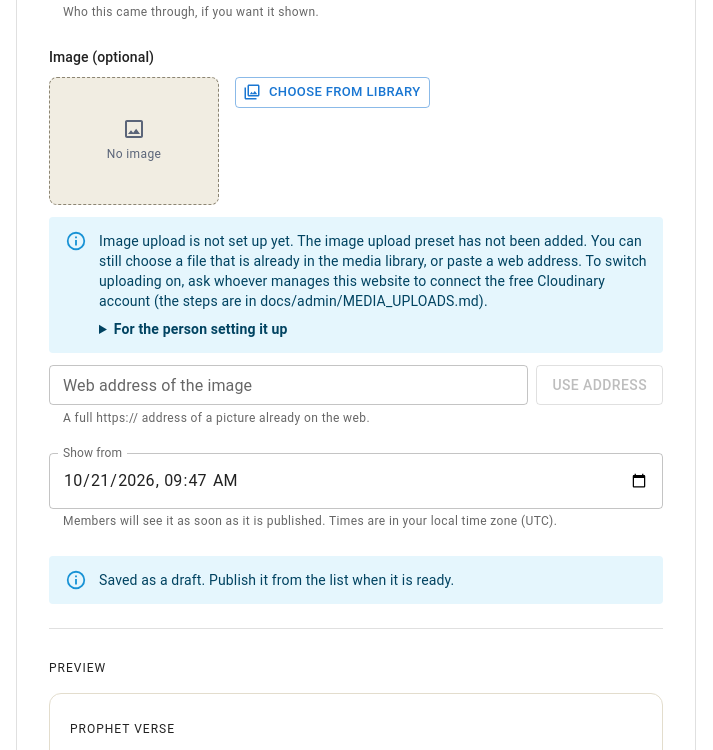
creating › refuses to take an image address the phone could not load, and says why
(page scrolled)
Step 1. Type "http://example.org/a.jpg" into the field with test id "prophet-verse-image-url-input" → (289, 385), box [49,365,528,405]
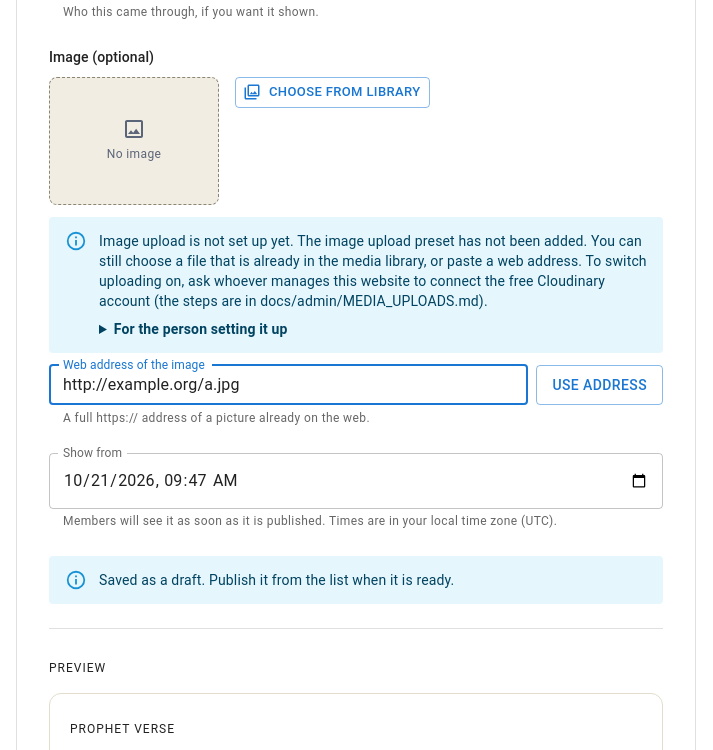
Step 2. Click the button with test id "prophet-verse-image-url-apply" → (600, 385), box [536,365,663,405]
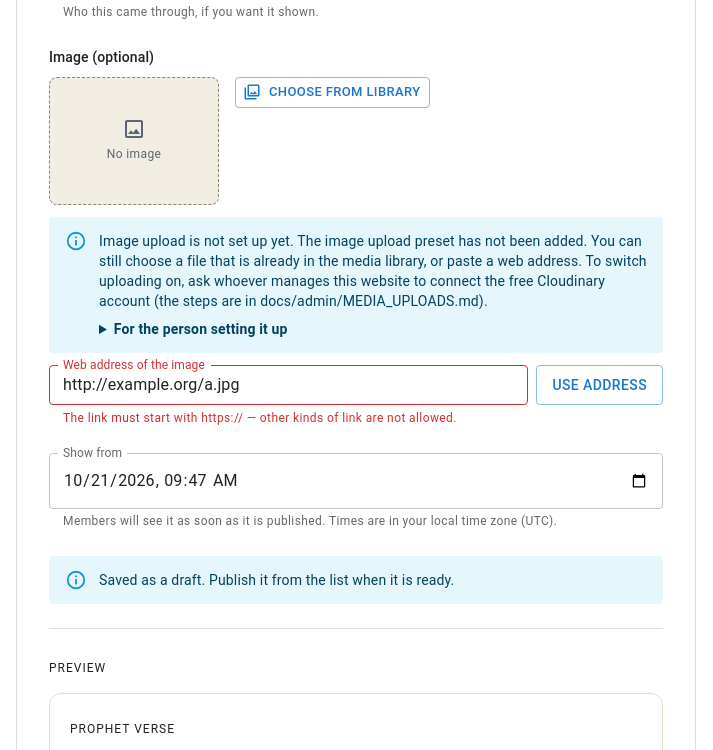
Now the text "must start with https" is shown, box [63,411,457,425]
